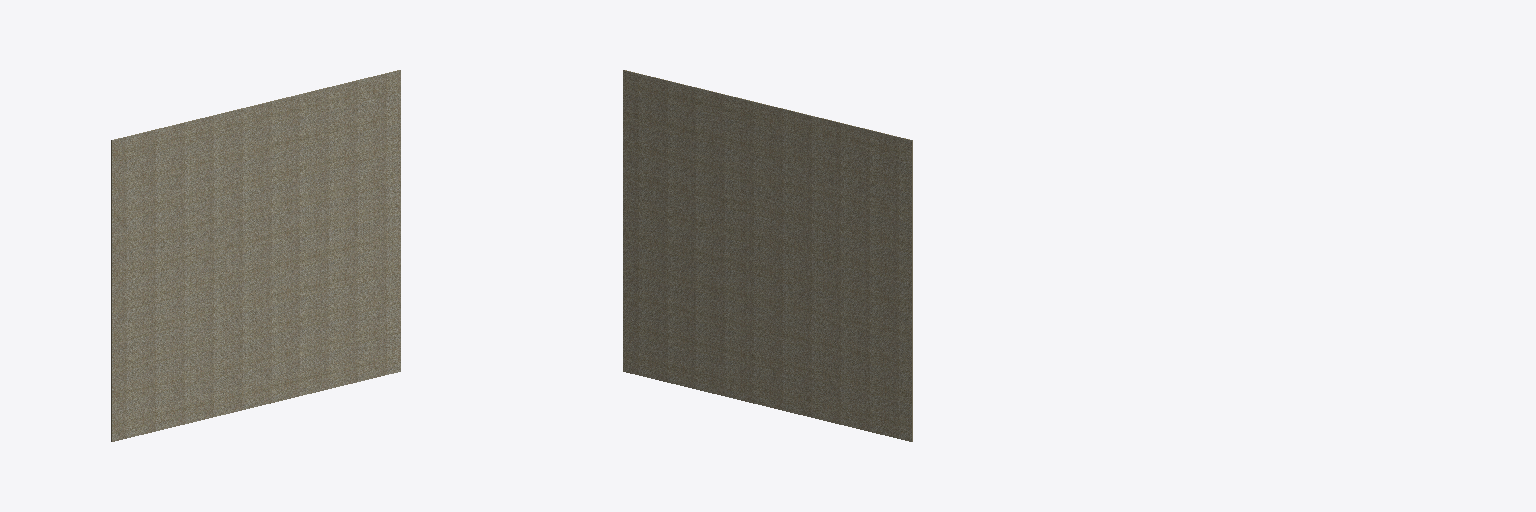
3 renders of one model, left to right at view 1: azimuth 30°, elevation 25°; view 2: azimuth 150°, elevation 25°; view 3: azimuth 270°, elevation 25°, orthographic.
Visible parts, largest first — view 1: Box002; view 2: Box002; view 3: none.
Boxes of the visible parts, x1=… form: Box002: x1=111, y1=70, x2=400, y2=441; Box002: x1=623, y1=70, x2=912, y2=441.
Bounding box in the file's own units: 3500 × 3495 × 10.
1 materials, 1 textured.